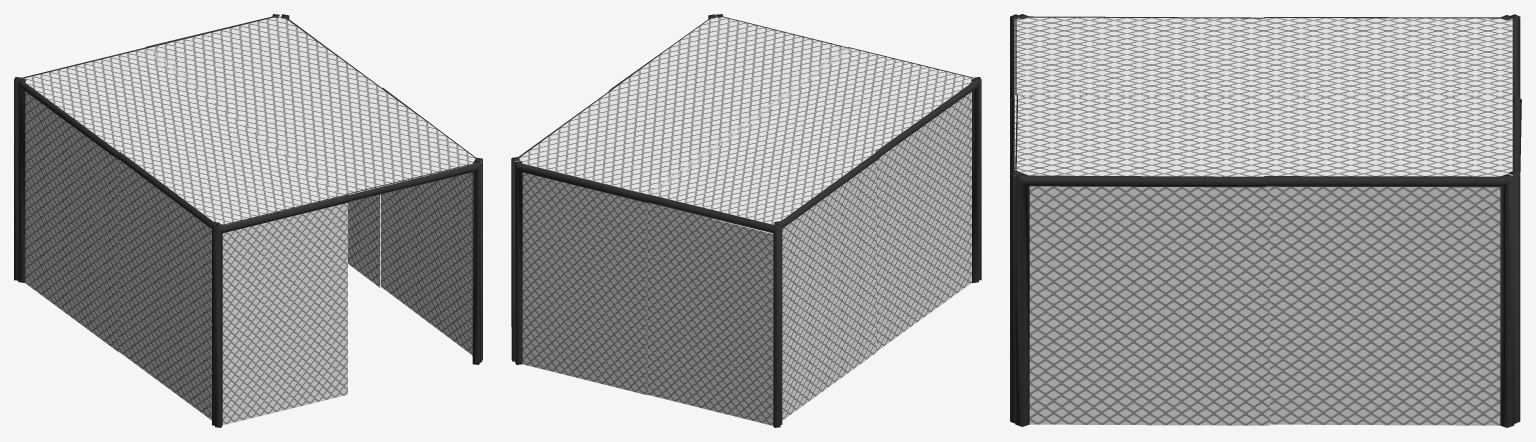
File: puestoBateo.obj
3 views of the same model, side by side, from view 1: azimuth 30°, elevation 25°; view 2: azimuth 150°, elevation 25°; view 3: azimuth 270°, elevation 25° (orthographic). The views are drawn at different scales.
Visible parts, largest first — view 1: Grade_1_017, Grade_1_013, Grade_1_001, Grade_1_010, Grade_1_016, Grade_1_008, Grade_0_002, Grade_0_001, Grade_1_014, Grade_0_010, Grade_0_009, Grade_0_004 (+1 smaller); view 2: Grade_1_017, Grade_1_013, Grade_1_015, Grade_1_003, Grade_1_010, Grade_1_016, Grade_0_004, Grade_0_003, Grade_0_009, Grade_0_010, Grade_0_006, Grade_0_001; view 3: Grade_1_008, Grade_1_014, Grade_1_017, Grade_1_013, Grade_0_008, Grade_0_006, Grade_0_003, Grade_0_002, Grade_0_004, Grade_0_001.
Part boxes in pixels (x1=…): Grade_1_017: x1=144, y1=15, x2=481, y2=196; Grade_1_013: x1=23, y1=48, x2=341, y2=225; Grade_1_001: x1=222, y1=203, x2=347, y2=424; Grade_1_010: x1=25, y1=91, x2=119, y2=352; Grade_1_016: x1=119, y1=160, x2=211, y2=420; Grade_1_008: x1=381, y1=172, x2=472, y2=355; Grade_0_002: x1=347, y1=161, x2=480, y2=364; Grade_0_001: x1=215, y1=194, x2=349, y2=427; Grade_1_014: x1=348, y1=194, x2=380, y2=287; Grade_0_010: x1=18, y1=78, x2=119, y2=282; Grade_0_009: x1=116, y1=152, x2=219, y2=425; Grade_0_004: x1=14, y1=47, x2=147, y2=280; Grade_1_017: x1=515, y1=14, x2=852, y2=195; Grade_1_013: x1=647, y1=48, x2=973, y2=224; Grade_1_015: x1=647, y1=203, x2=773, y2=425; Grade_1_003: x1=522, y1=172, x2=647, y2=395; Grade_1_010: x1=782, y1=160, x2=876, y2=420; Grade_1_016: x1=877, y1=91, x2=971, y2=351; Grade_0_004: x1=645, y1=194, x2=780, y2=427; Grade_0_003: x1=515, y1=161, x2=647, y2=364; Grade_0_009: x1=875, y1=79, x2=979, y2=283; Grade_0_010: x1=774, y1=152, x2=880, y2=424; Grade_0_006: x1=511, y1=88, x2=614, y2=361; Grade_0_001: x1=848, y1=47, x2=981, y2=280; Grade_1_008: x1=1029, y1=186, x2=1269, y2=425; Grade_1_014: x1=1267, y1=186, x2=1500, y2=425; Grade_1_017: x1=1014, y1=92, x2=1512, y2=176; Grade_1_013: x1=1014, y1=17, x2=1512, y2=96; Grade_0_008: x1=1015, y1=173, x2=1265, y2=426; Grade_0_006: x1=1264, y1=174, x2=1514, y2=427; Grade_0_003: x1=1509, y1=94, x2=1521, y2=423; Grade_0_002: x1=1010, y1=94, x2=1021, y2=423; Grade_0_004: x1=1509, y1=14, x2=1520, y2=97; Grade_0_001: x1=1010, y1=14, x2=1020, y2=172.
Size of the model in its own units: 20.16 by 14.17 by 26.4.
